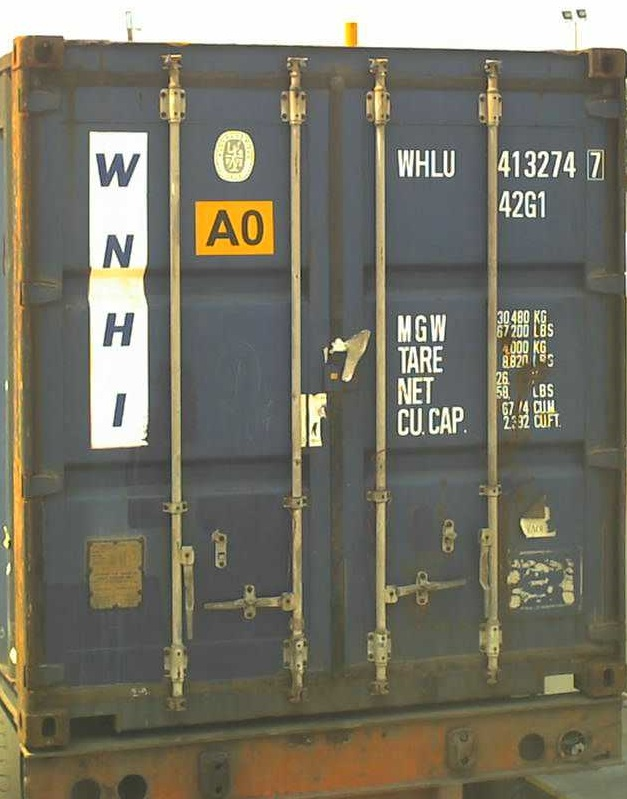container_door: (13, 29, 627, 747)
